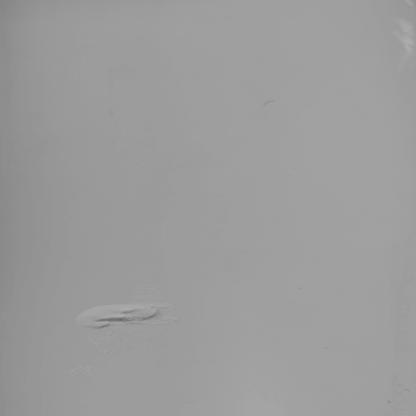sunshang: (77, 305, 161, 329)
